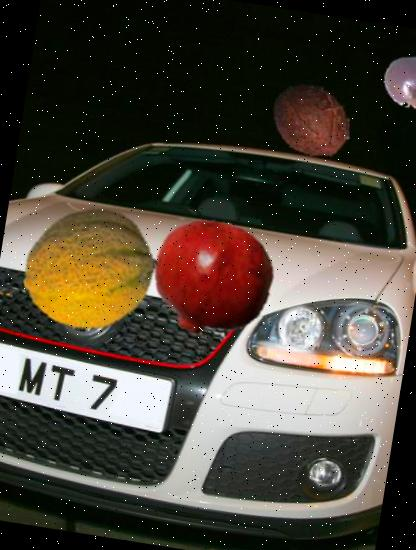Cantaloupe: (13, 193, 167, 347)
Cocos: (262, 72, 360, 169)
Passion: (379, 51, 416, 115)
Pomegranate: (142, 208, 283, 348)
